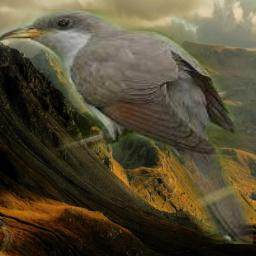Cuckoo: (0, 9, 253, 244)
